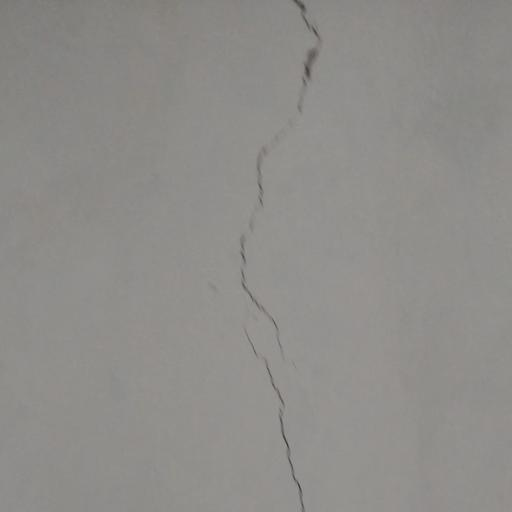minor_crack: (231, 0, 327, 512)
